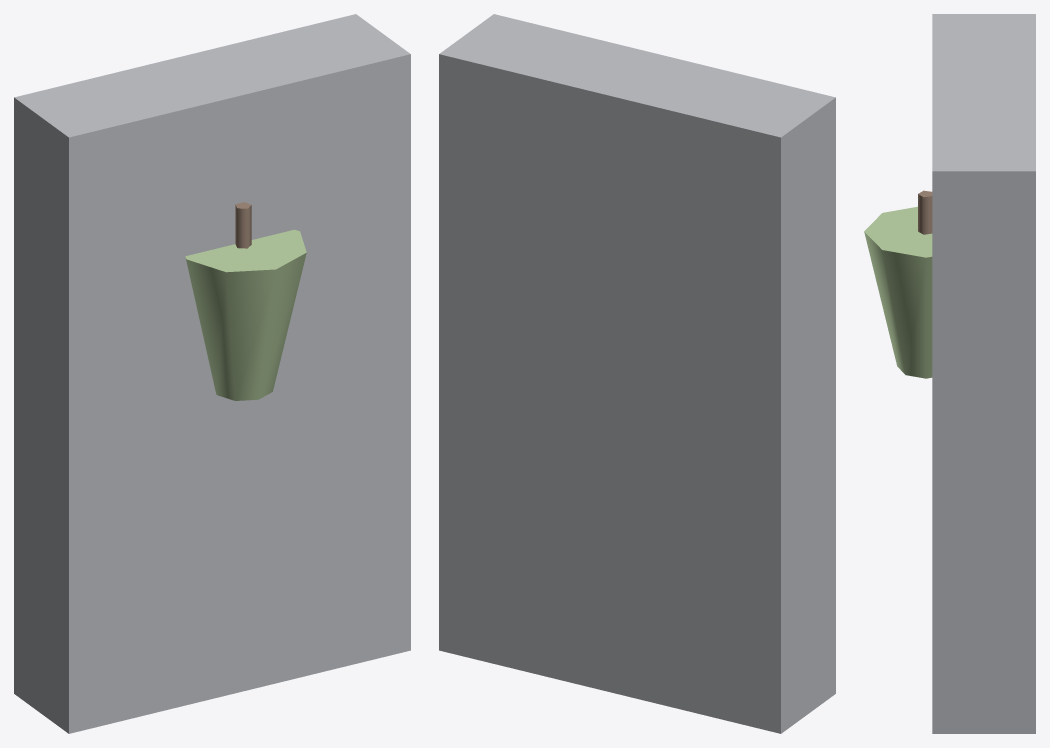
File: wonder-stone-chrysalis.gltf
3 views of the same model, side by side, from view 1: azimuth 30°, elevation 25°; view 2: azimuth 150°, elevation 25°; view 3: azimuth 270°, elevation 25° (orthographic). The views are drawn at different scales.
Parts seen in each view (by area): view 1: Stone, EmblemCase, EmblemStalk; view 2: Stone; view 3: Stone, EmblemCase, EmblemStalk.
Boxes of the visible parts, x1=… form: Stone: x1=14, y1=14, x2=410, y2=733; EmblemCase: x1=185, y1=229, x2=306, y2=400; EmblemStalk: x1=235, y1=202, x2=251, y2=248; Stone: x1=439, y1=14, x2=835, y2=733; Stone: x1=932, y1=14, x2=1035, y2=733; EmblemCase: x1=864, y1=206, x2=932, y2=378; EmblemStalk: x1=918, y1=190, x2=932, y2=234.
Bounding box in the file's own units: 0.9 × 1.5 × 0.415.
